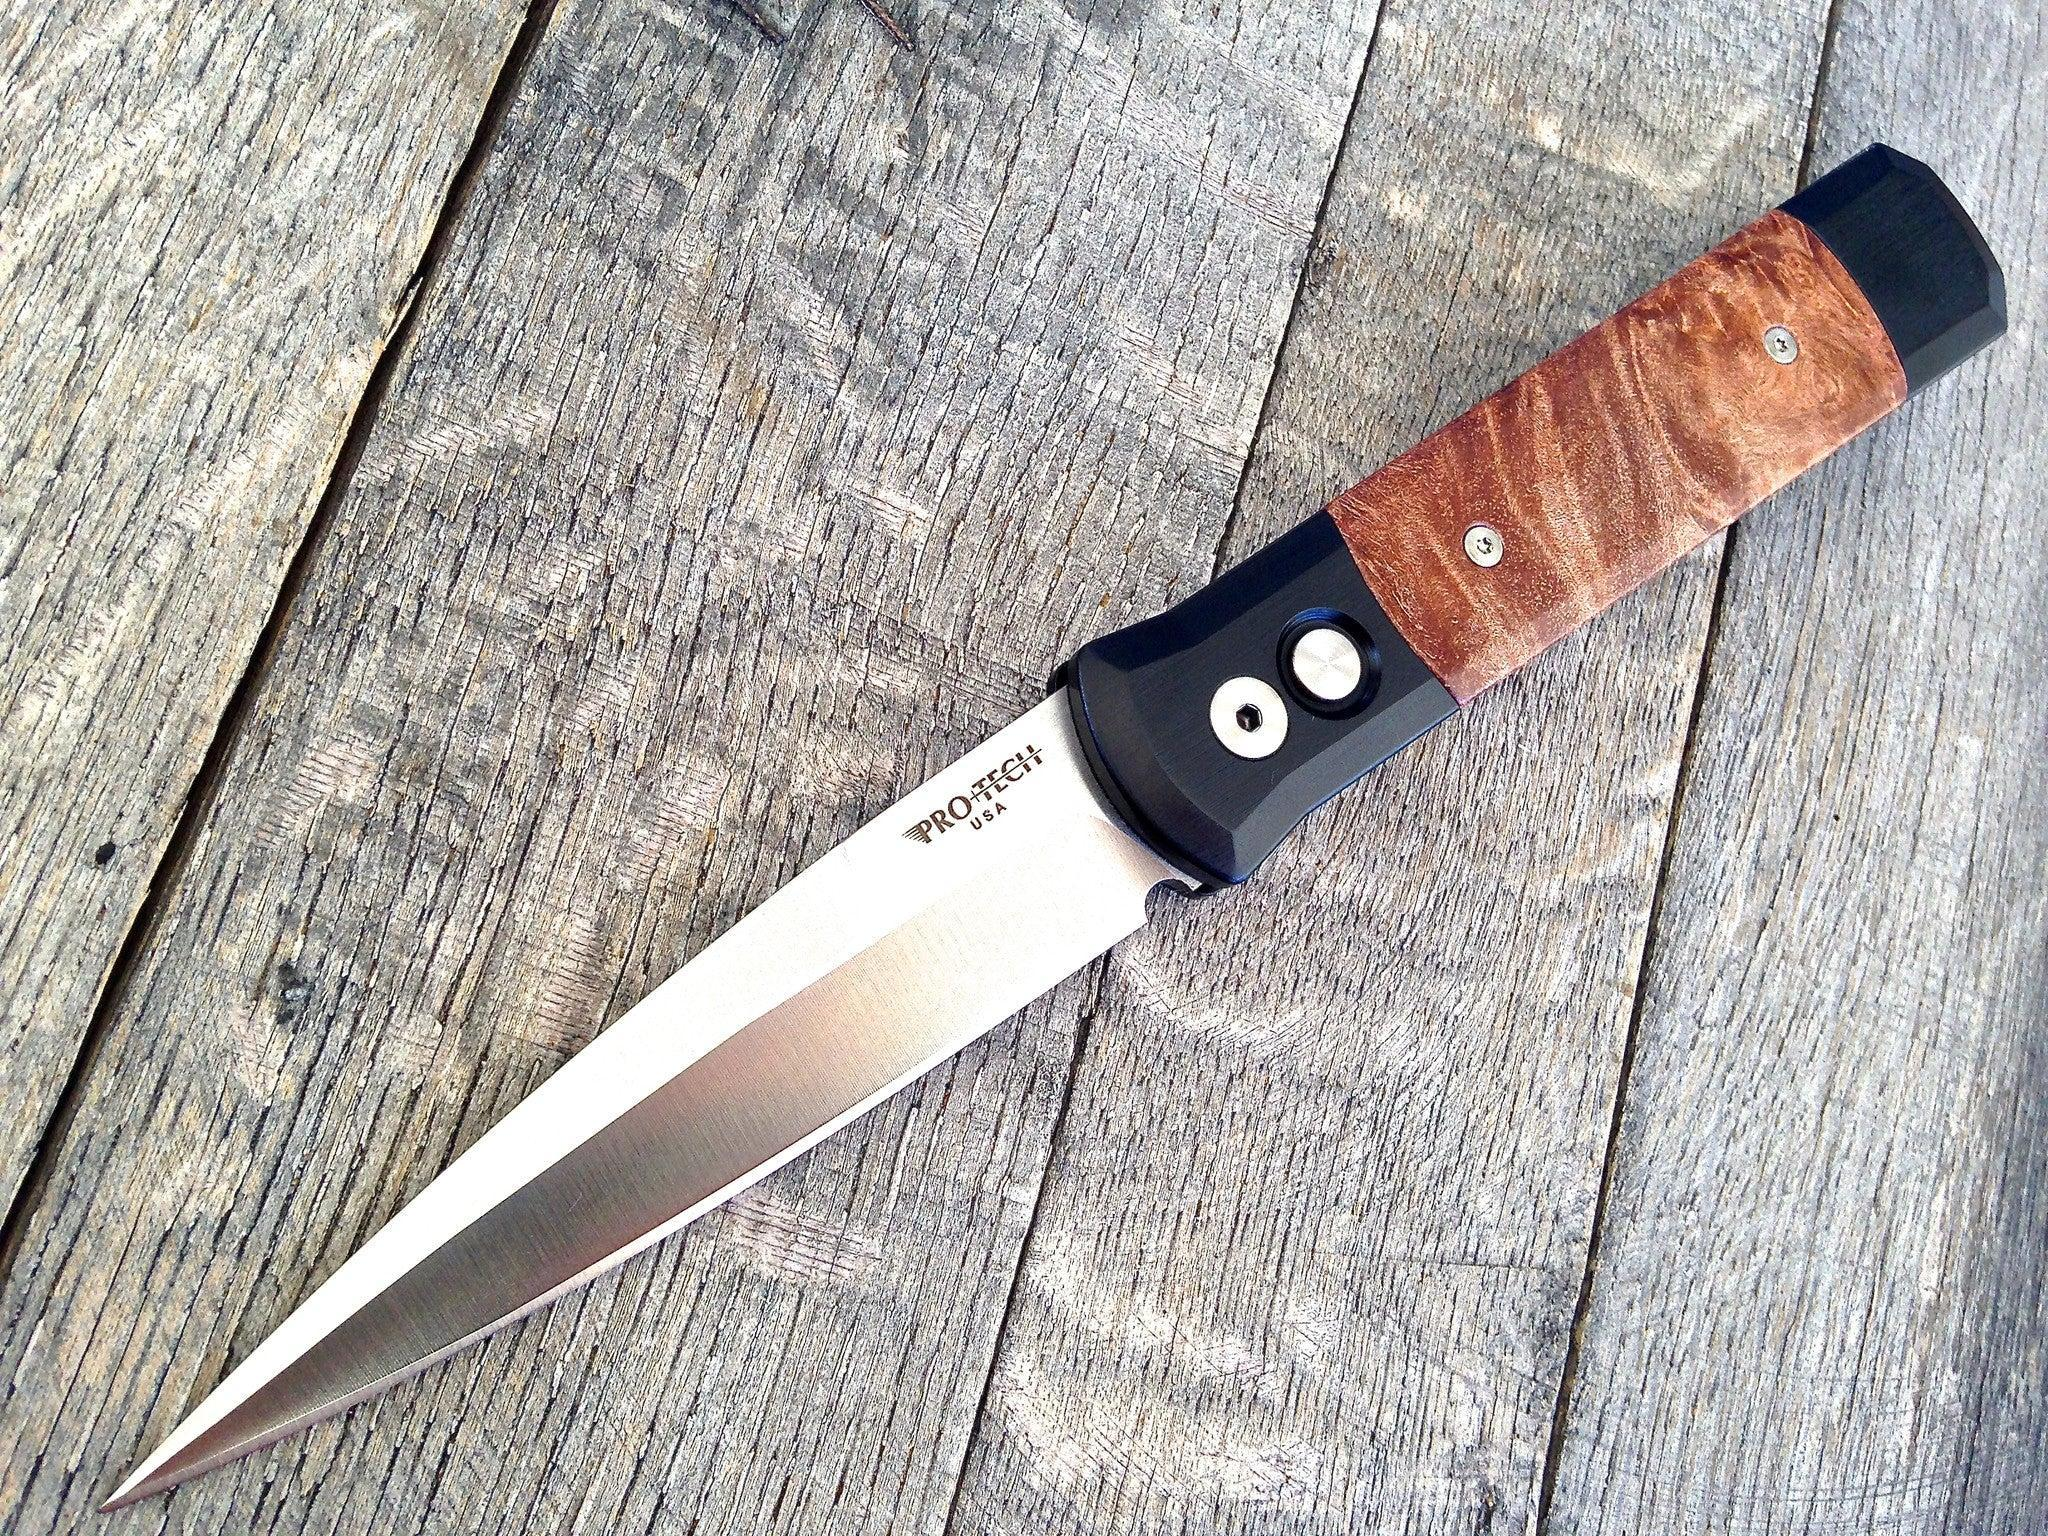faca: (103, 147, 2004, 1510)
